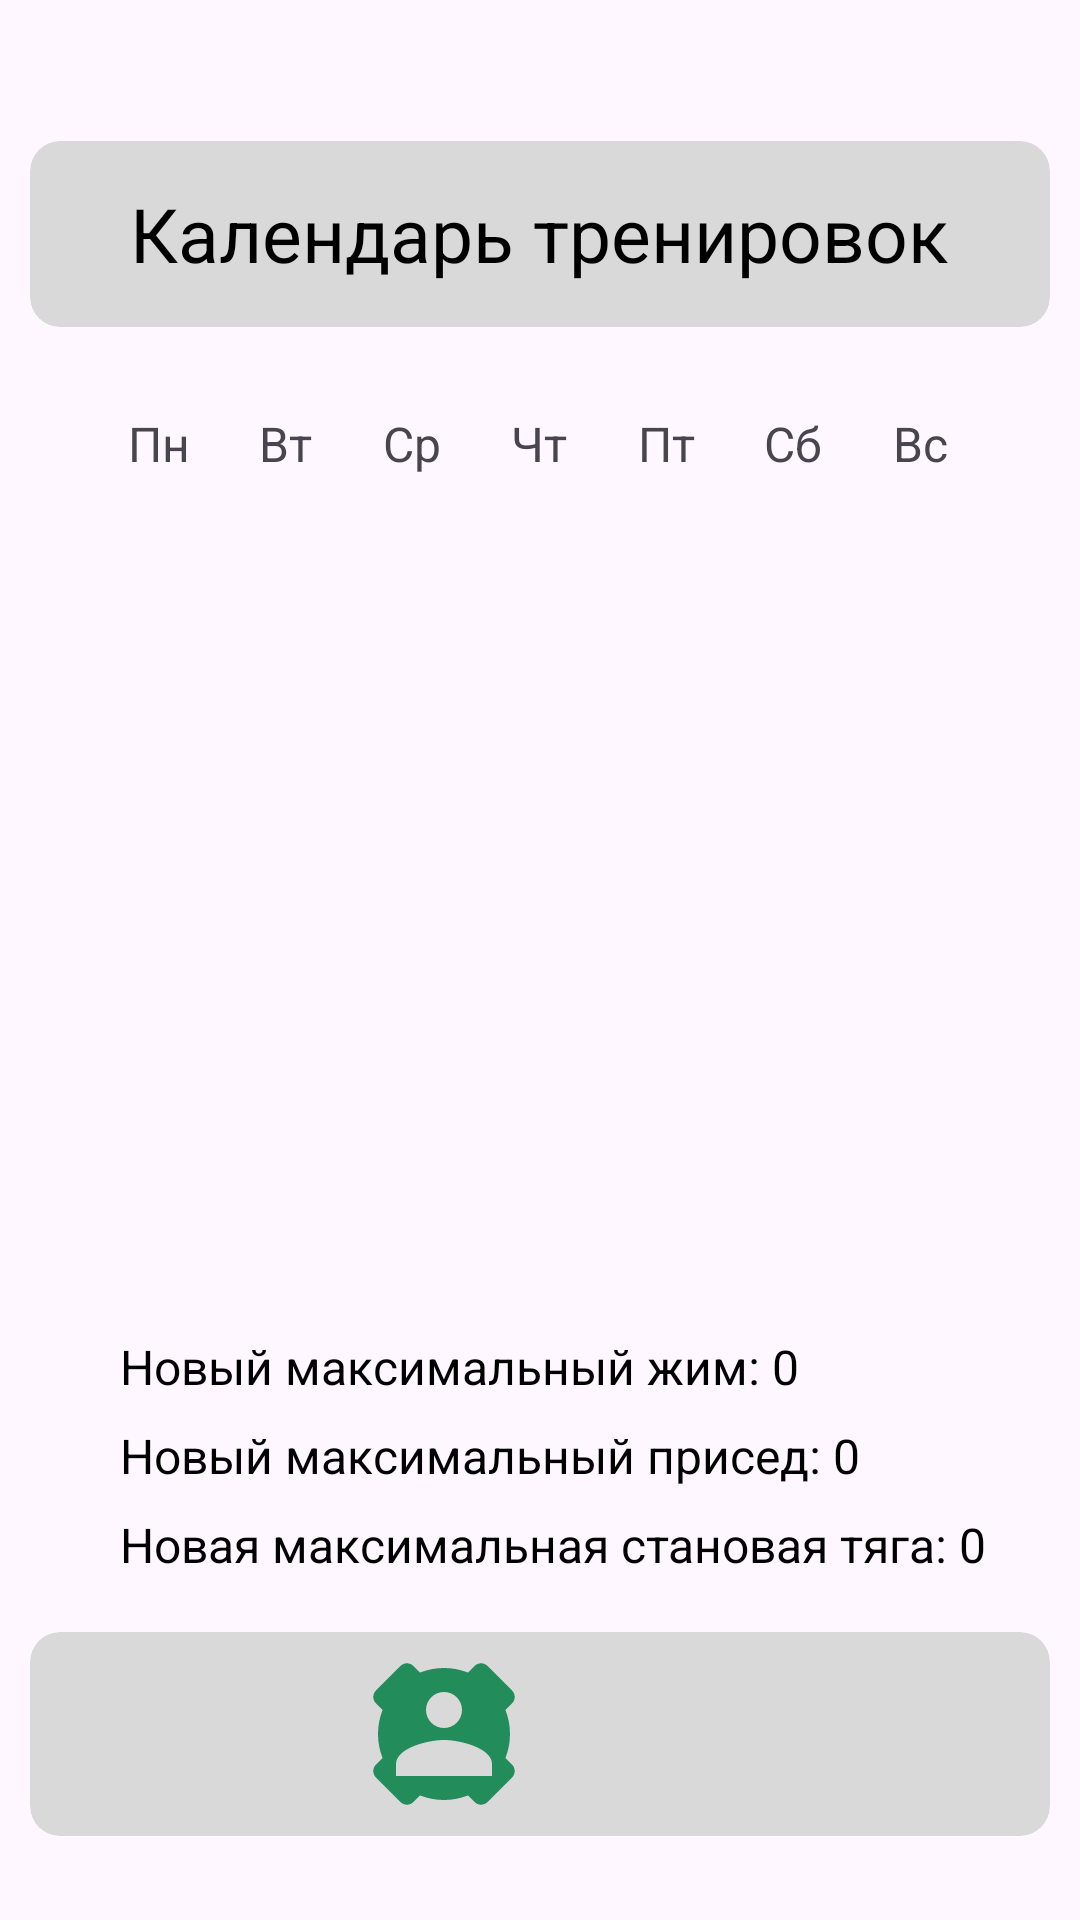

Icons on this 1080 × 1920 Android screen, each with its box as (x1, y1, x2, y2):
Настройки: (373, 1663, 515, 1805)
